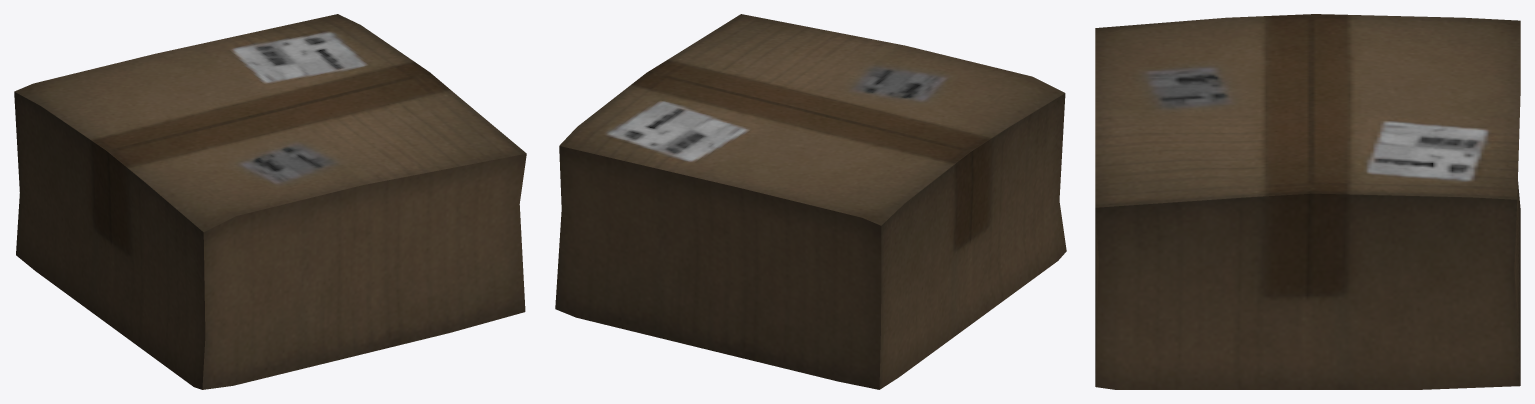
The model's file is cardboard_box_1.fbx.
3 views of the same model, side by side, from view 1: azimuth 30°, elevation 25°; view 2: azimuth 150°, elevation 25°; view 3: azimuth 270°, elevation 25° (orthographic). The views are drawn at different scales.
Parts seen in each view (by area): view 1: cardboard_box_1; view 2: cardboard_box_1; view 3: cardboard_box_1.
Boxes of the visible parts, x1,y1,x2,y2 form: cardboard_box_1: [14, 14, 526, 389]; cardboard_box_1: [555, 14, 1066, 389]; cardboard_box_1: [1095, 14, 1520, 389].
Size of the model in its own units: 72.69 by 36.7 by 72.
